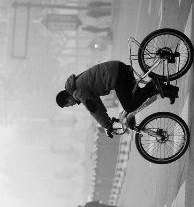person: (54, 58, 179, 136)
